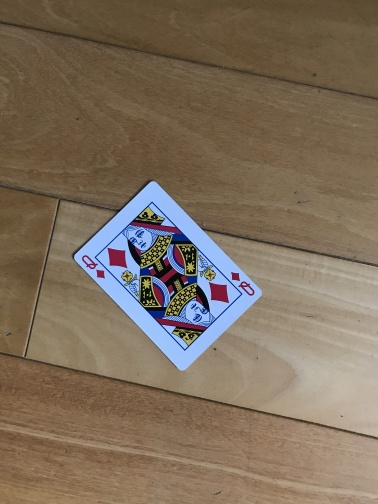queen: (72, 179, 264, 373)
